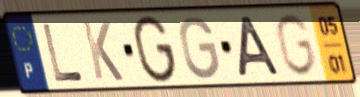A: (237, 14, 283, 80)
G: (131, 14, 179, 86), (272, 11, 319, 79), (177, 15, 222, 82)
K: (79, 19, 126, 84)
L: (40, 22, 86, 84)
